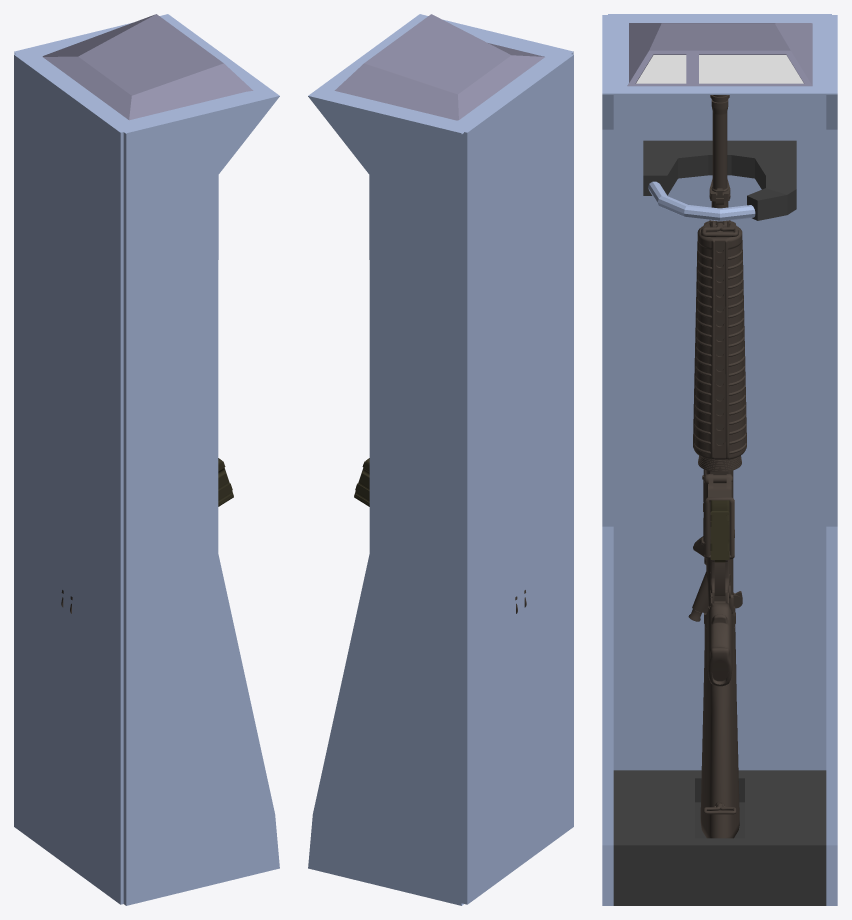
File: rsch.automation-weapon-rack-compiled.fbx
The picture shows the model from 3 angles, left to right: view 1: azimuth 30°, elevation 25°; view 2: azimuth 150°, elevation 25°; view 3: azimuth 270°, elevation 25°; orthographic projection. The views are drawn at different scales.
Visible parts, largest first — view 1: rack.left.wall, rack.back.wall, rack.rfid.lid, rack.top.wall; view 2: rack.back.wall, rack.right.wall, rack.rfid.lid, rack.top.wall; view 3: rack.back.wall, rack.padding, m16a2_body, rack.rfid.lid, rack.left.wall, rack.right.wall, rack.top.wall, rack.clamper.base, rack.clamper.mov, m16a2_mag.
Boxes of the visible parts, x1,y1,x2,y2 form: rack.left.wall: [123, 96, 279, 905]; rack.back.wall: [14, 54, 123, 904]; rack.rfid.lid: [42, 14, 253, 120]; rack.top.wall: [14, 14, 279, 133]; rack.back.wall: [461, 54, 573, 904]; rack.right.wall: [308, 96, 463, 905]; rack.rfid.lid: [334, 14, 544, 120]; rack.top.wall: [308, 14, 573, 134]; rack.back.wall: [608, 14, 831, 770]; rack.padding: [613, 770, 826, 905]; m16a2_body: [688, 95, 746, 838]; rack.rfid.lid: [627, 23, 812, 86]; rack.left.wall: [602, 95, 613, 905]; rack.right.wall: [826, 95, 837, 905]; rack.top.wall: [602, 15, 837, 94]; rack.clamper.base: [643, 140, 796, 220]; rack.clamper.mov: [648, 181, 755, 221]; m16a2_mag: [710, 500, 729, 562].
Size of the model in its own units: 26.67 by 124 by 31.5.
